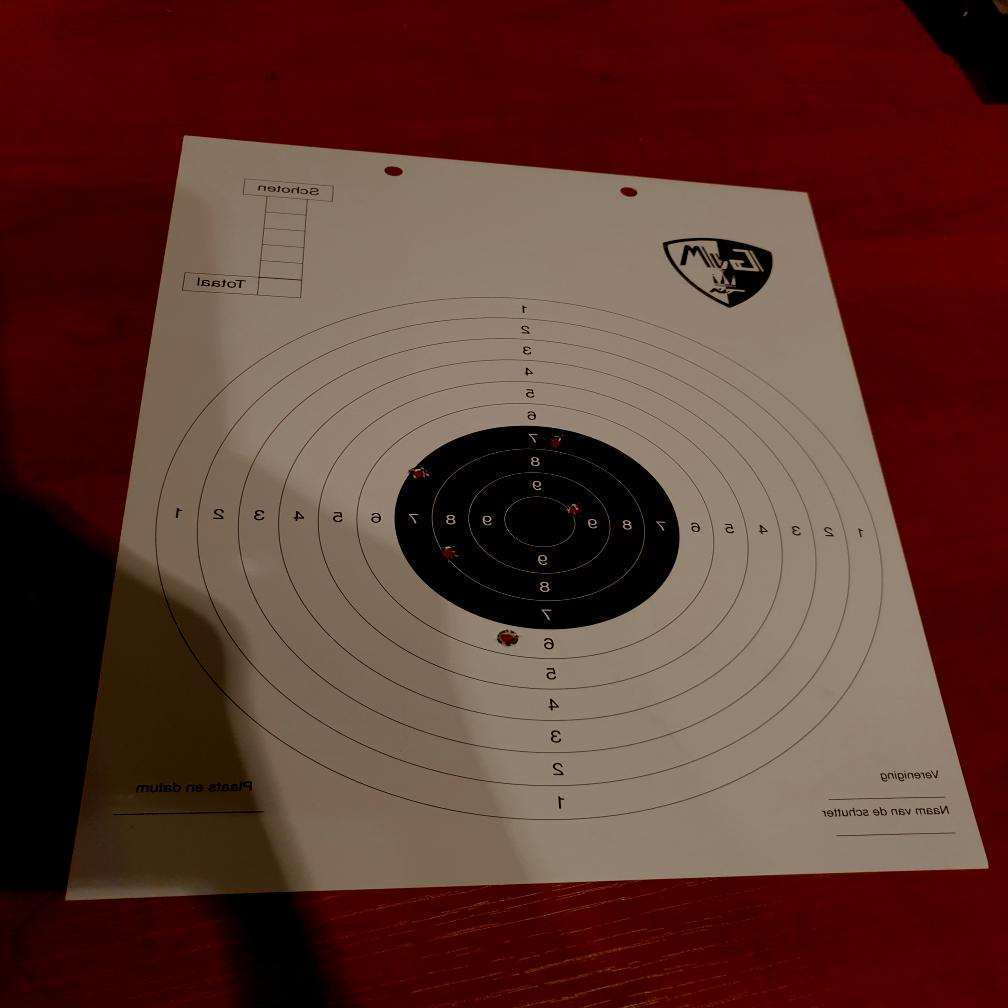10: (566, 500, 587, 519)
6: (494, 628, 521, 647)
7: (544, 433, 571, 450), (406, 465, 431, 482)
8: (434, 544, 461, 563)
Target: (151, 291, 883, 824)
black_contour: (394, 423, 679, 629)
